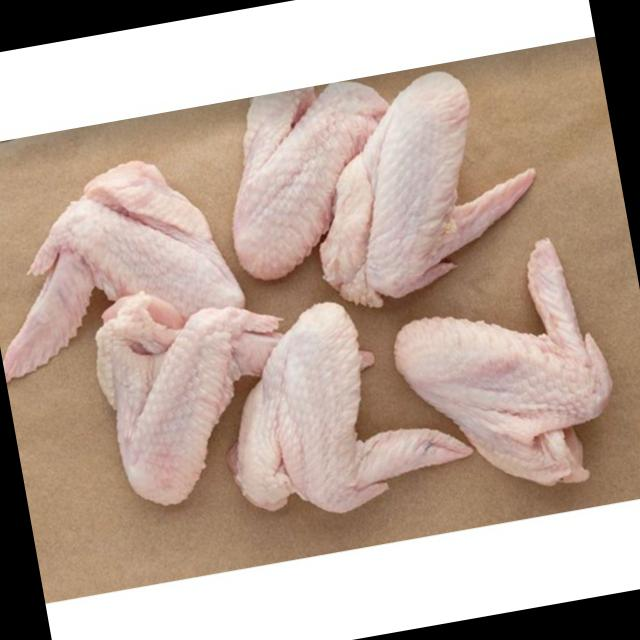chicken: (299, 50, 558, 315), (202, 282, 476, 532), (384, 246, 630, 509), (0, 147, 250, 381), (88, 278, 312, 514), (205, 63, 402, 283)
